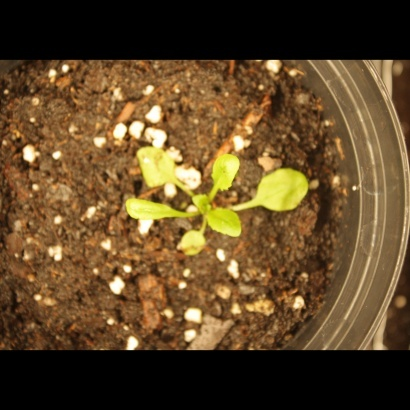leaf: (252, 165, 314, 217), (132, 141, 185, 188), (122, 191, 182, 230), (198, 146, 242, 192), (209, 208, 251, 241), (171, 227, 213, 258), (186, 188, 216, 216)
